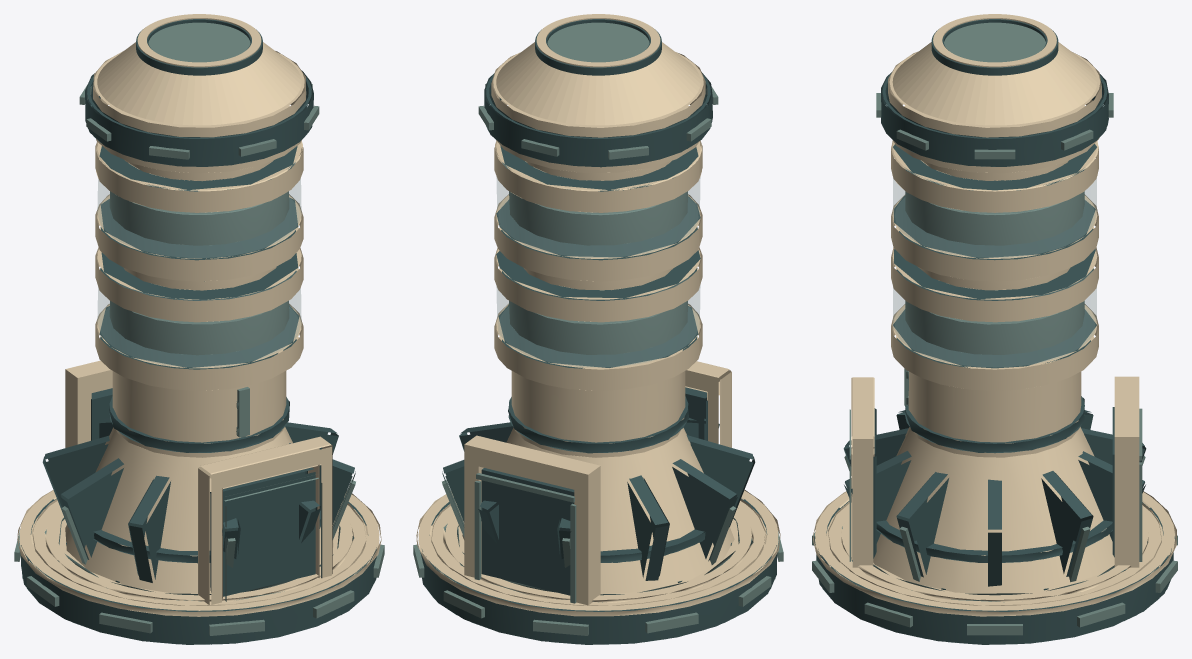
File: Cannon_T2.glb
3 renders of one model, left to right at view 1: azimuth 30°, elevation 25°; view 2: azimuth 150°, elevation 25°; view 3: azimuth 270°, elevation 25°, orthographic.
Visible parts, largest first — view 1: Cannon_T2; view 2: Cannon_T2; view 3: Cannon_T2.
Part boxes in pixels (x1,y1,x2,y2): Cannon_T2: (14, 14, 384, 644); Cannon_T2: (413, 14, 783, 644); Cannon_T2: (812, 14, 1177, 644).
Size of the model in its own units: 3.58 by 5.71 by 3.57.
